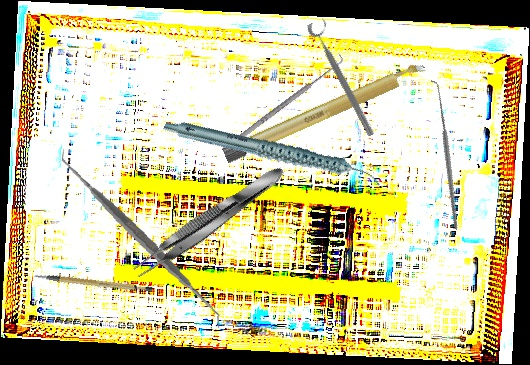Fixation Ring: (305, 16, 384, 139)
Handpiece: (162, 77, 384, 230)
Hook Surgical: (381, 80, 507, 230), (230, 52, 347, 145)
Scalpel Handle: (221, 59, 429, 165), (33, 254, 154, 309)
Spatula Surgical: (48, 148, 234, 329)
Tissue Forceps: (128, 160, 291, 284)
